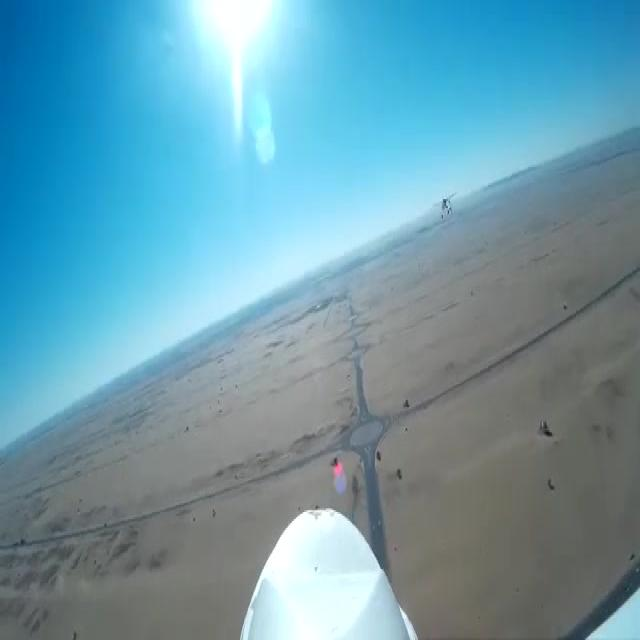iha: (428, 183, 458, 213)
